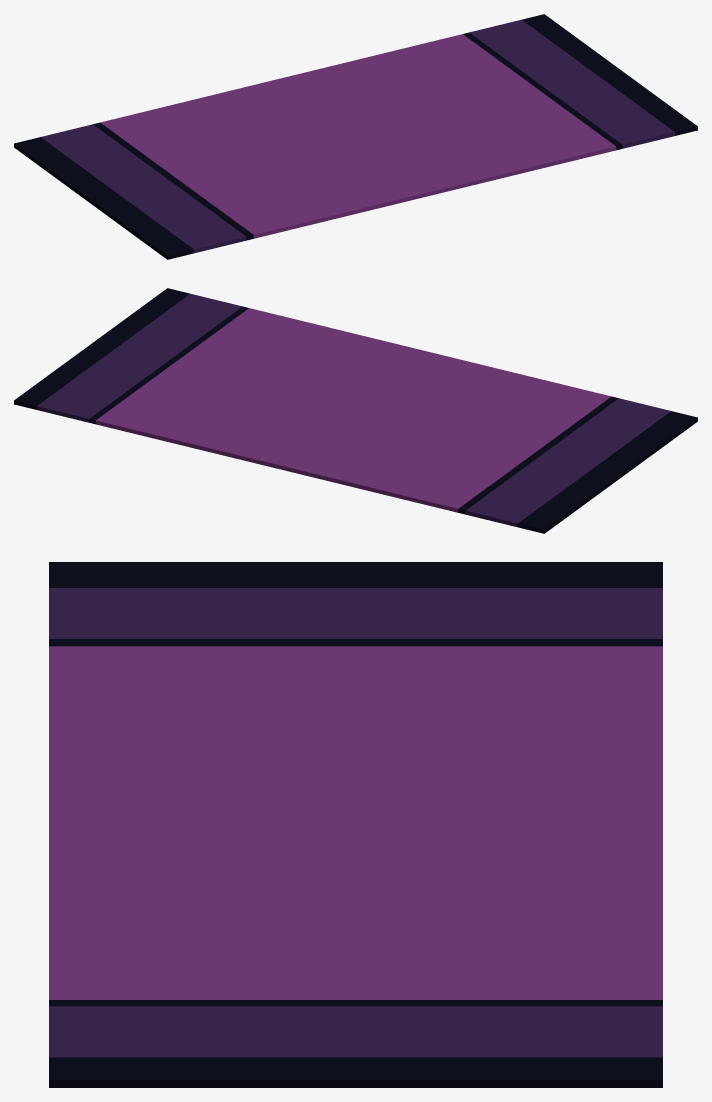
The model's file is Rug_Rect01.fbx.
The picture shows the model from 3 angles, top to bottom: view 1: azimuth 30°, elevation 25°; view 2: azimuth 150°, elevation 25°; view 3: azimuth 270°, elevation 25°; orthographic projection. The views are drawn at different scales.
Parts seen in each view (by area): view 1: Rect Rug; view 2: Rect Rug; view 3: Rect Rug.
Boxes of the visible parts, x1,y1,x2,y2 form: Rect Rug: (14,14,697,259); Rect Rug: (14,288,697,533); Rect Rug: (49,562,662,1087).
Bounding box in the file's own units: 160 × 1.15 × 80.44.
